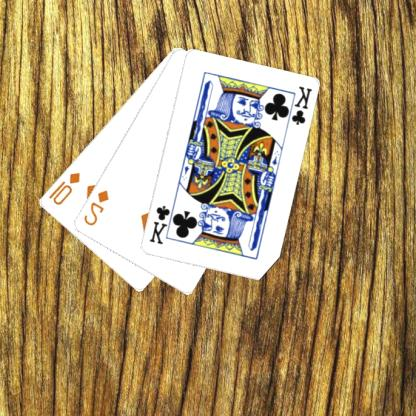10D: (47, 169, 83, 207)
2D: (82, 188, 111, 228)
KC: (284, 84, 315, 129), (148, 202, 178, 246)
